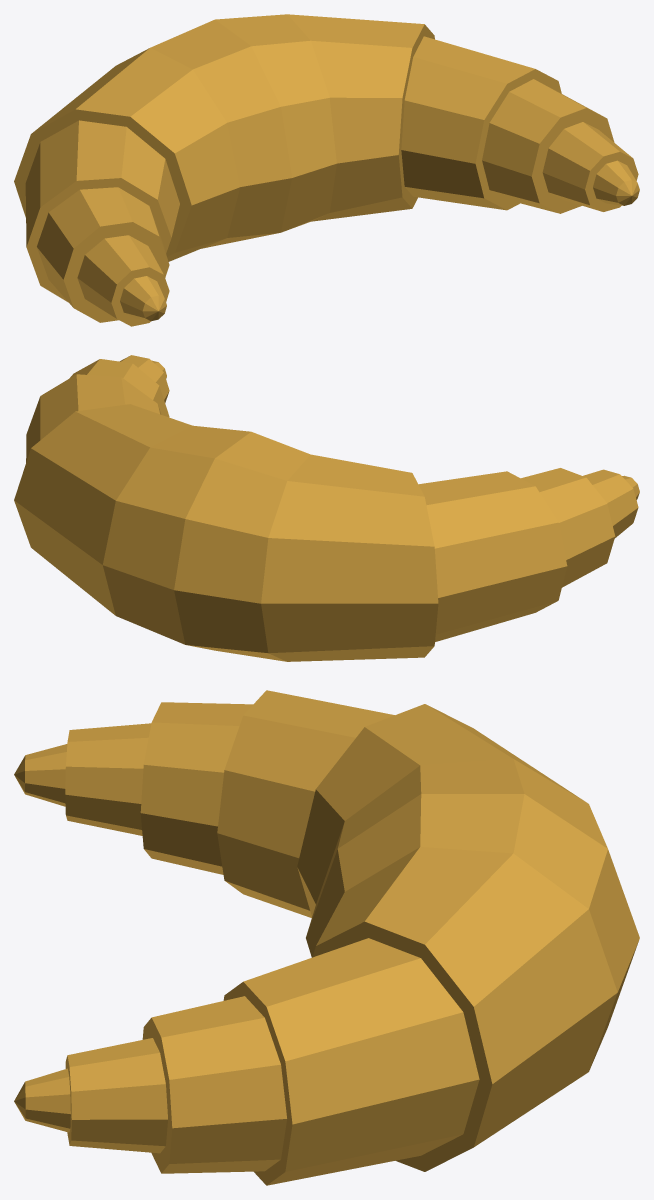
The model's file is Croissant.fbx.
The picture shows the model from 3 angles, top to bottom: view 1: azimuth 30°, elevation 25°; view 2: azimuth 150°, elevation 25°; view 3: azimuth 270°, elevation 25°; orthographic projection. The views are drawn at different scales.
Parts seen in each view (by area): view 1: Croissant; view 2: Croissant; view 3: Croissant.
Boxes of the visible parts, bbox=[...] form: Croissant: bbox=[14, 14, 639, 326]; Croissant: bbox=[14, 355, 639, 661]; Croissant: bbox=[14, 690, 639, 1185].
Bounding box in the file's own units: 33.25 × 11.07 × 23.11.
Materials: 1 (1 with a texture image).
